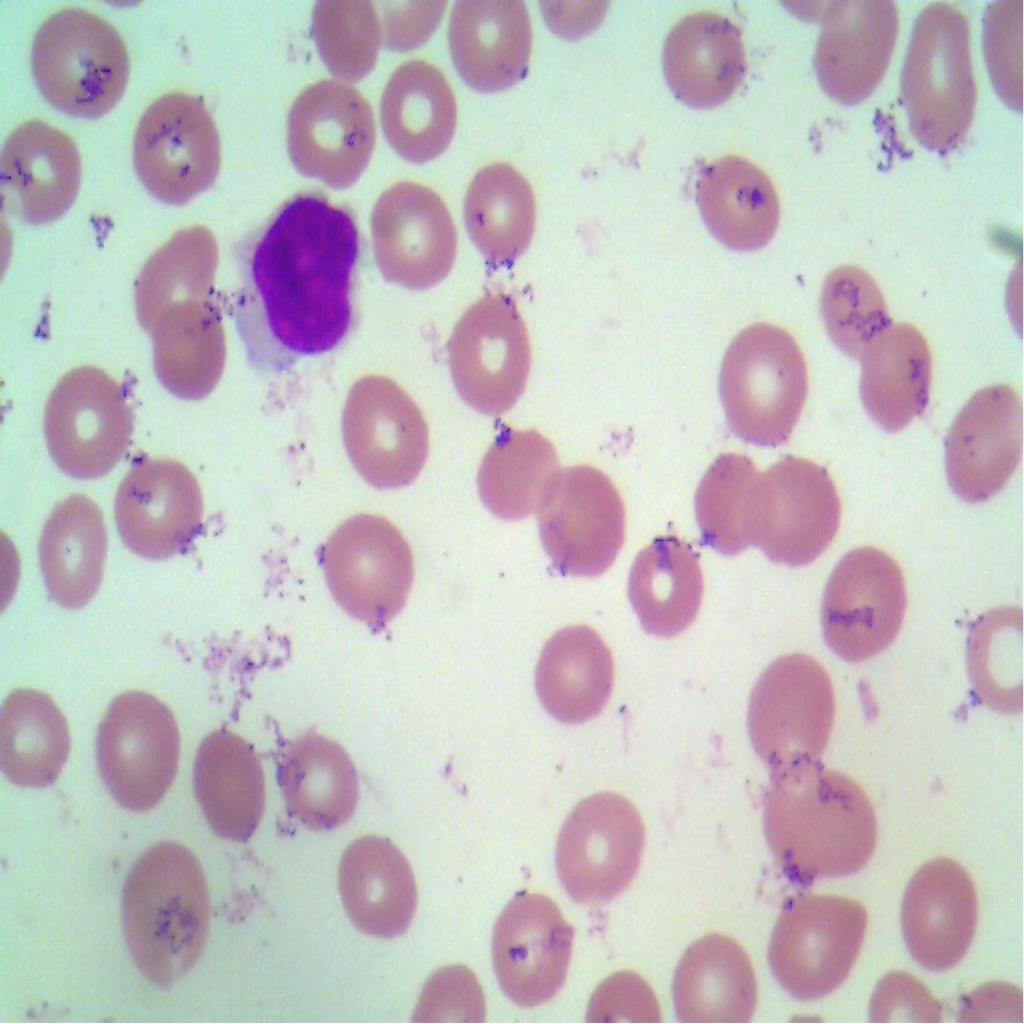Eritrosit: (330, 357, 440, 495), (762, 755, 874, 888), (118, 838, 216, 989), (891, 0, 978, 161), (816, 544, 918, 678), (550, 778, 652, 911), (128, 82, 228, 215), (23, 4, 135, 122), (714, 322, 815, 451), (94, 684, 186, 824), (319, 511, 419, 639), (38, 354, 140, 478), (284, 76, 381, 202), (108, 448, 210, 567), (766, 891, 869, 1008), (368, 170, 459, 300), (23, 484, 118, 607), (748, 458, 846, 575), (278, 714, 366, 844), (524, 624, 624, 738), (742, 654, 826, 788), (450, 147, 540, 272), (446, 288, 533, 417), (189, 726, 276, 854), (486, 886, 572, 1014), (938, 378, 1023, 506), (0, 109, 89, 231), (811, 0, 902, 115), (542, 467, 630, 585), (338, 834, 426, 951), (898, 847, 983, 968), (859, 319, 939, 447), (438, 0, 542, 98), (470, 424, 572, 522), (653, 11, 751, 112), (808, 260, 898, 368), (0, 682, 79, 804), (138, 221, 218, 340), (619, 535, 709, 639), (698, 152, 786, 258), (669, 920, 759, 1023), (374, 62, 462, 167), (955, 589, 1023, 719), (150, 298, 234, 401), (682, 445, 763, 551), (308, 0, 378, 82)
Limfoblast: (226, 189, 368, 365)
